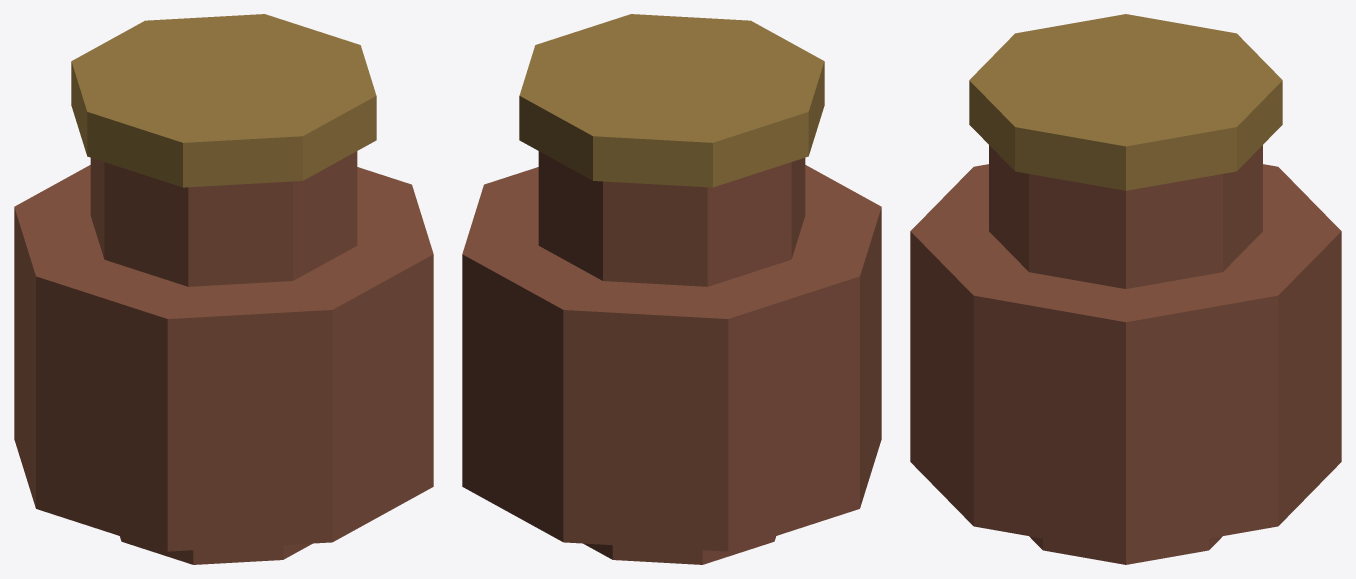
Rendered from funerary_urn.obj.
3 renders of one model, left to right at view 1: azimuth 30°, elevation 25°; view 2: azimuth 150°, elevation 25°; view 3: azimuth 270°, elevation 25°, orthographic.
Visible parts, largest first — view 1: funerary_urn; view 2: funerary_urn; view 3: funerary_urn.
Boxes of the visible parts, x1,y1,x2,y2 form: funerary_urn: (14,14,433,564); funerary_urn: (462,14,881,564); funerary_urn: (910,14,1341,564).
Bounding box in the file's own units: 0.44 × 0.49 × 0.44.
